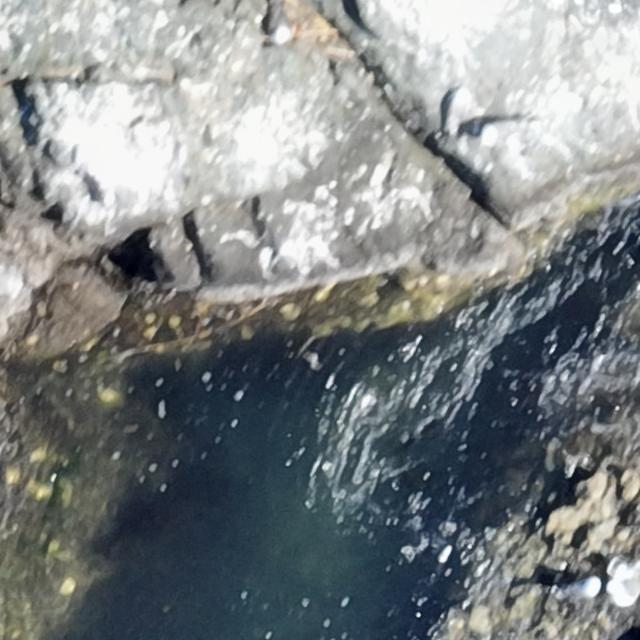umineko: (260, 3, 298, 48), (479, 108, 526, 144), (555, 571, 599, 599), (445, 89, 470, 131)
